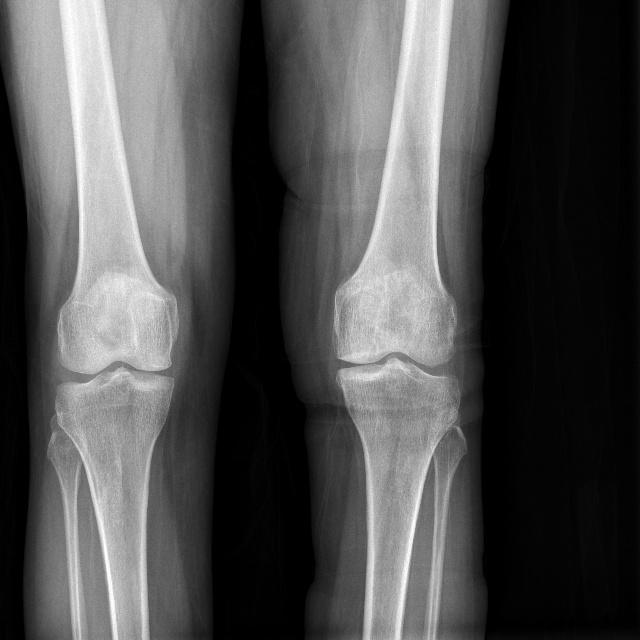Knee: (51, 310, 180, 431), (327, 306, 459, 421)
